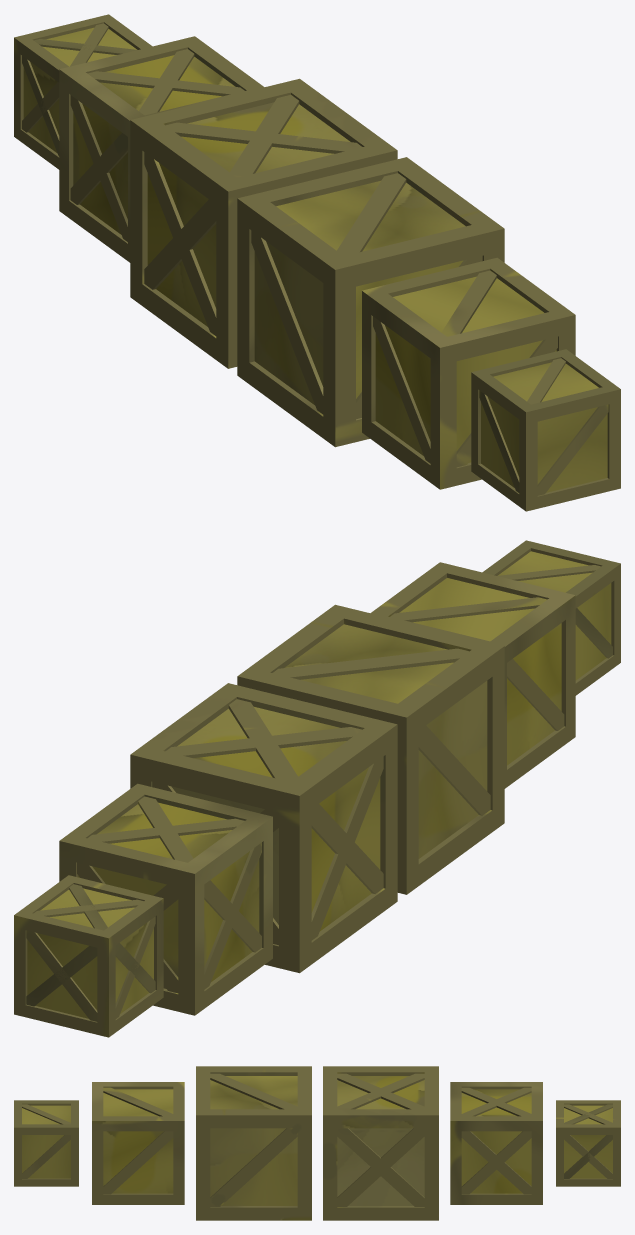
The model's file is boxes.fbx.
3 views of the same model, one above another, from view 1: azimuth 30°, elevation 25°; view 2: azimuth 150°, elevation 25°; view 3: azimuth 270°, elevation 25° (orthographic). The views are drawn at different scales.
Visible parts, largest first — view 1: big_box.003, big_box.004, big_box.002, big_box.001, big_box.005, big_box.006; view 2: big_box.004, big_box.003, big_box.005, big_box.006, big_box.002, big_box.001; view 3: big_box.003, big_box.004, big_box.002, big_box.005, big_box.001, big_box.006.
Part boxes in pixels (x1,y1,x2,y2): big_box.003: (237, 157, 504, 447); big_box.004: (130, 78, 397, 368); big_box.002: (362, 257, 575, 489); big_box.001: (471, 349, 620, 511); big_box.005: (59, 36, 264, 262); big_box.006: (14, 14, 152, 169); big_box.004: (130, 683, 397, 973); big_box.003: (237, 604, 504, 894); big_box.005: (59, 783, 272, 1015); big_box.006: (14, 875, 163, 1037); big_box.002: (370, 562, 575, 788); big_box.001: (482, 540, 620, 695); big_box.003: (196, 1066, 311, 1220); big_box.004: (323, 1066, 438, 1220); big_box.002: (92, 1082, 184, 1204); big_box.005: (450, 1082, 542, 1204); big_box.001: (14, 1100, 78, 1186); big_box.006: (556, 1100, 620, 1186).
Size of the model in its own units: 347 by 347 by 1819.
